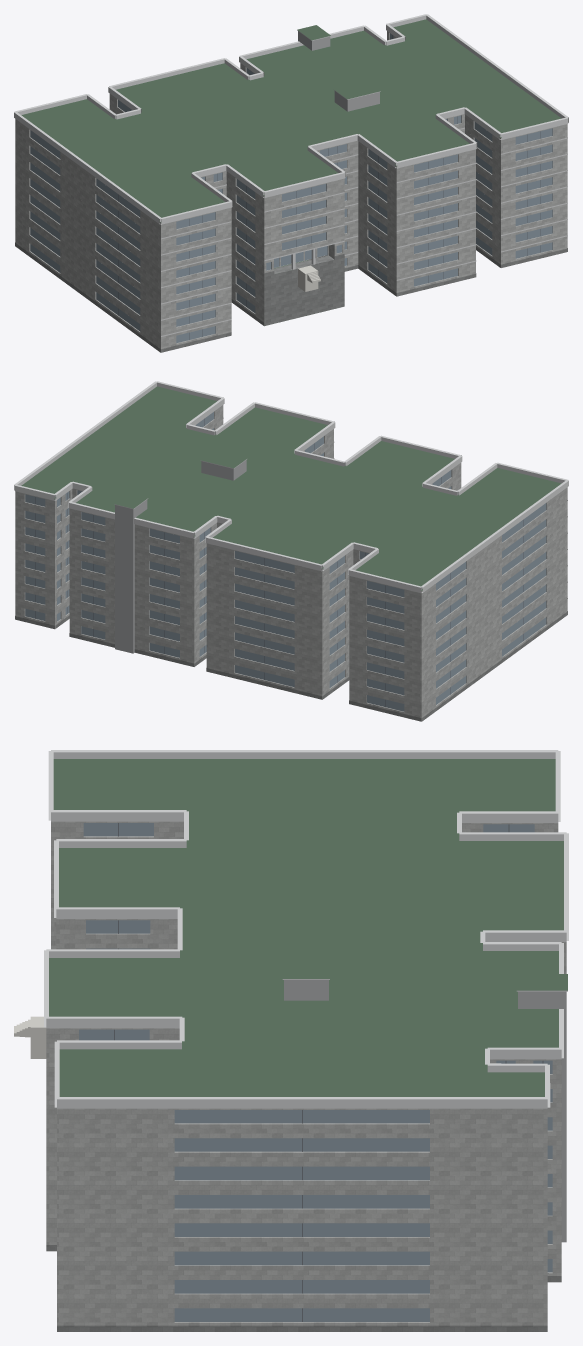
3 views of the same model, one above another, from view 1: azimuth 30°, elevation 25°; view 2: azimuth 150°, elevation 25°; view 3: azimuth 270°, elevation 25° (orthographic). The views are drawn at different scales.
Parts seen in each view (by area): view 1: b39__wall, b39__roof, b39__glass, b39__trim, b39__base, b39__wall2, b39__frame, b39__entranceStair; view 2: b39__wall, b39__roof, b39__glass, b39__trim, b39__wall2, b39__base, b39__frame; view 3: b39__roof, b39__wall, b39__glass, b39__trim, b39__base, b39__wall2, b39__entranceStair.
Boxes of the visible parts, x1=… form: b39__wall: x1=15, y1=31, x2=567, y2=352; b39__roof: x1=21, y1=19, x2=561, y2=326; b39__glass: x1=30, y1=33, x2=552, y2=343; b39__trim: x1=14, y1=14, x2=568, y2=336; b39__base: x1=15, y1=242, x2=567, y2=352; b39__wall2: x1=298, y1=31, x2=379, y2=111; b39__frame: x1=118, y1=35, x2=540, y2=339; b39__entranceStair: x1=298, y1=265, x2=320, y2=291; b39__wall: x1=15, y1=405, x2=567, y2=721; b39__roof: x1=21, y1=386, x2=561, y2=590; b39__glass: x1=25, y1=412, x2=546, y2=711; b39__trim: x1=14, y1=381, x2=568, y2=598; b39__wall2: x1=115, y1=460, x2=246, y2=653; b39__base: x1=15, y1=611, x2=567, y2=721; b39__frame: x1=35, y1=418, x2=523, y2=706; b39__roof: x1=49, y1=759, x2=567, y2=1096; b39__wall: x1=46, y1=821, x2=566, y2=1325; b39__glass: x1=79, y1=823, x2=552, y2=1321; b39__trim: x1=44, y1=750, x2=568, y2=1108; b39__base: x1=46, y1=1245, x2=561, y2=1331; b39__wall2: x1=284, y1=980, x2=566, y2=1242; b39__entranceStair: x1=14, y1=1016, x2=46, y2=1058.
Size of the model in its own units: 95.09 by 32.07 by 63.88.
10 materials, 2 textured.
